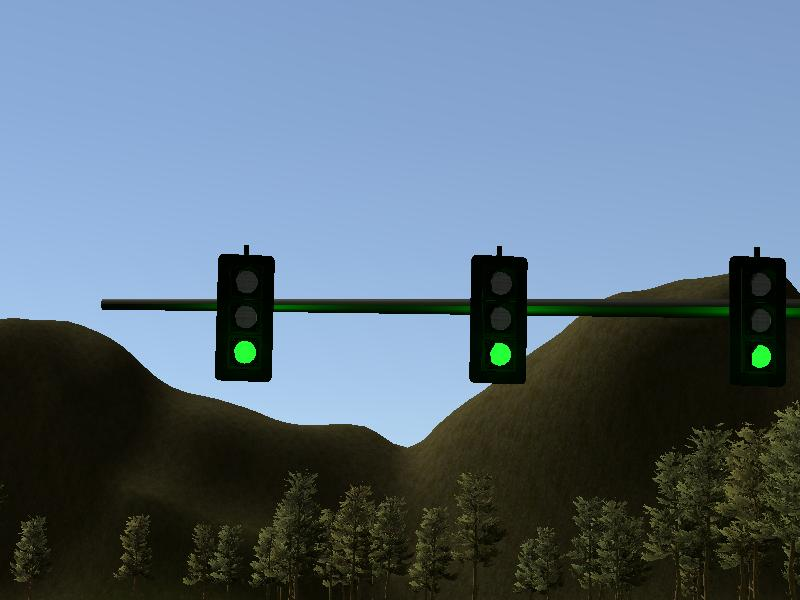Green: (729, 256, 785, 388), (216, 253, 270, 379), (473, 254, 525, 381)
